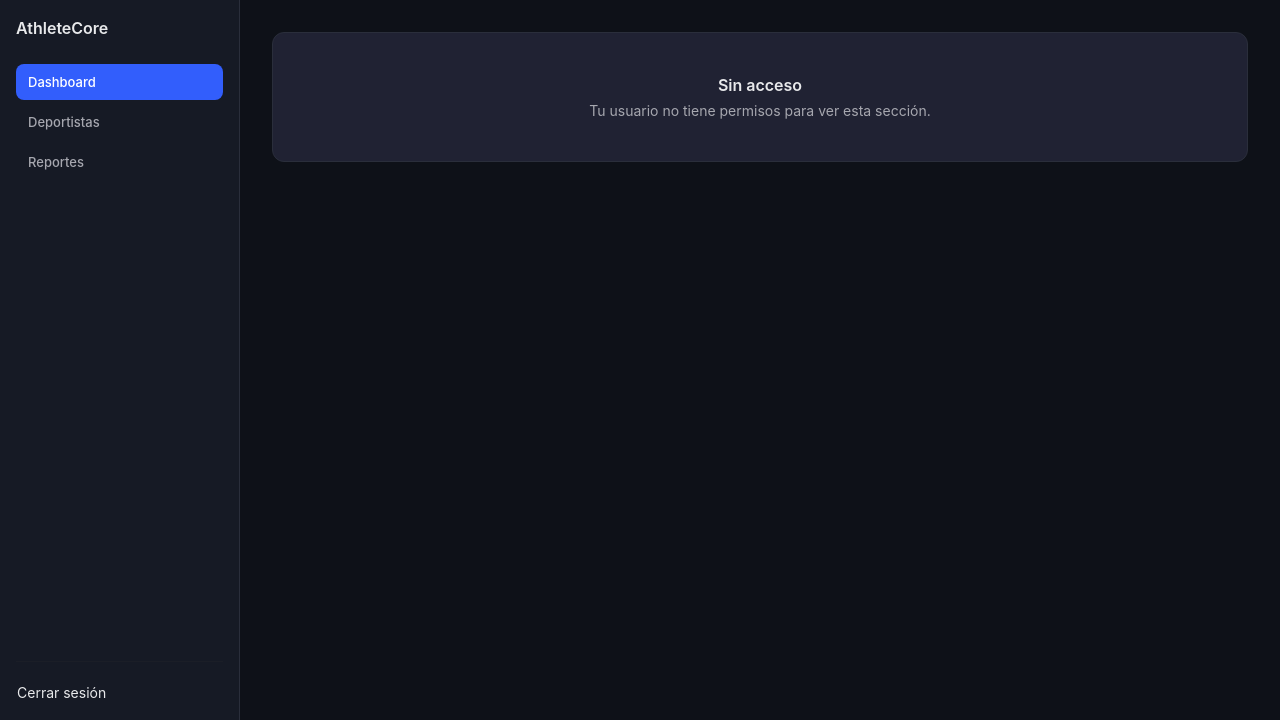
AppShell — wiring de setForbiddenHandler (C10) › el flag se reinicia al navegar a otra ruta (vuelve el contenido normal)
Expected: the message "Sin acceso Tu usuario no tiene permisos para ver esta sección." is shown, [272,32,1248,162]
// Navegar con un ítem real del sidebar (Deportistas → /athletes).
Click the link "Deportistas": (64, 122) [28,114,100,130]
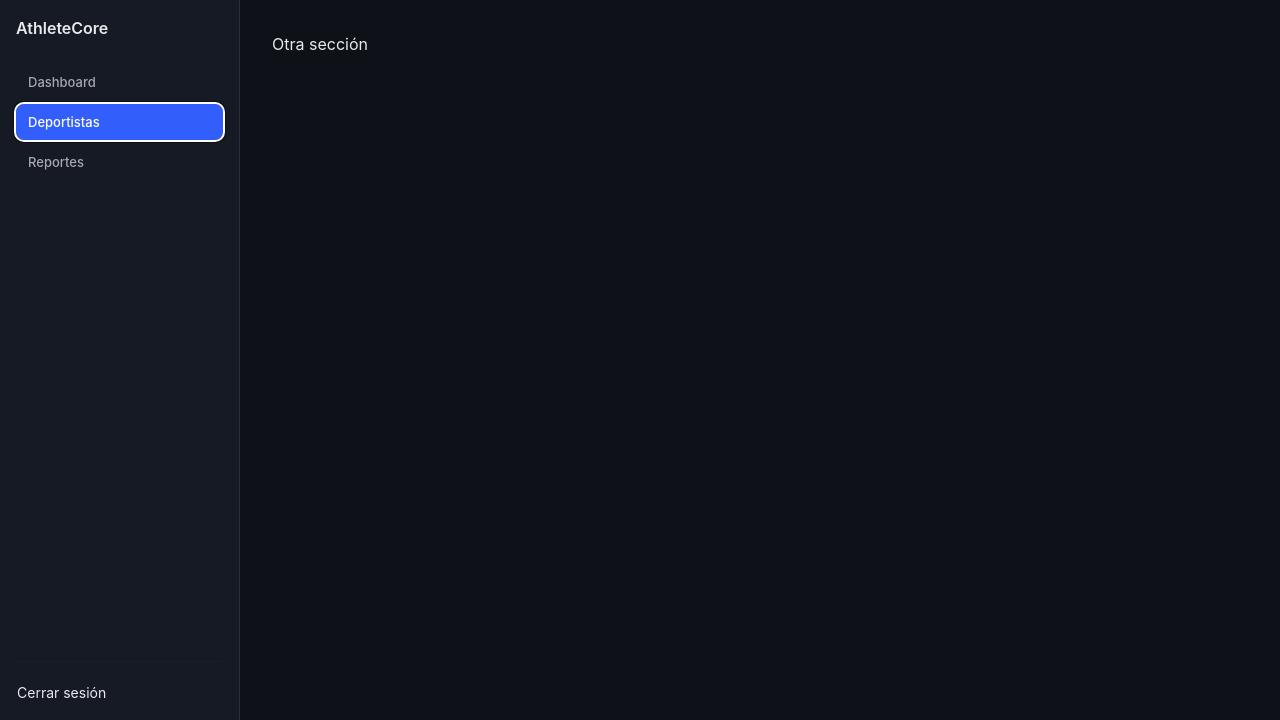
Expected: the text "Otra sección" is shown, [272,34,368,54]
Expected: the message with test id "forbidden-state" is gone
